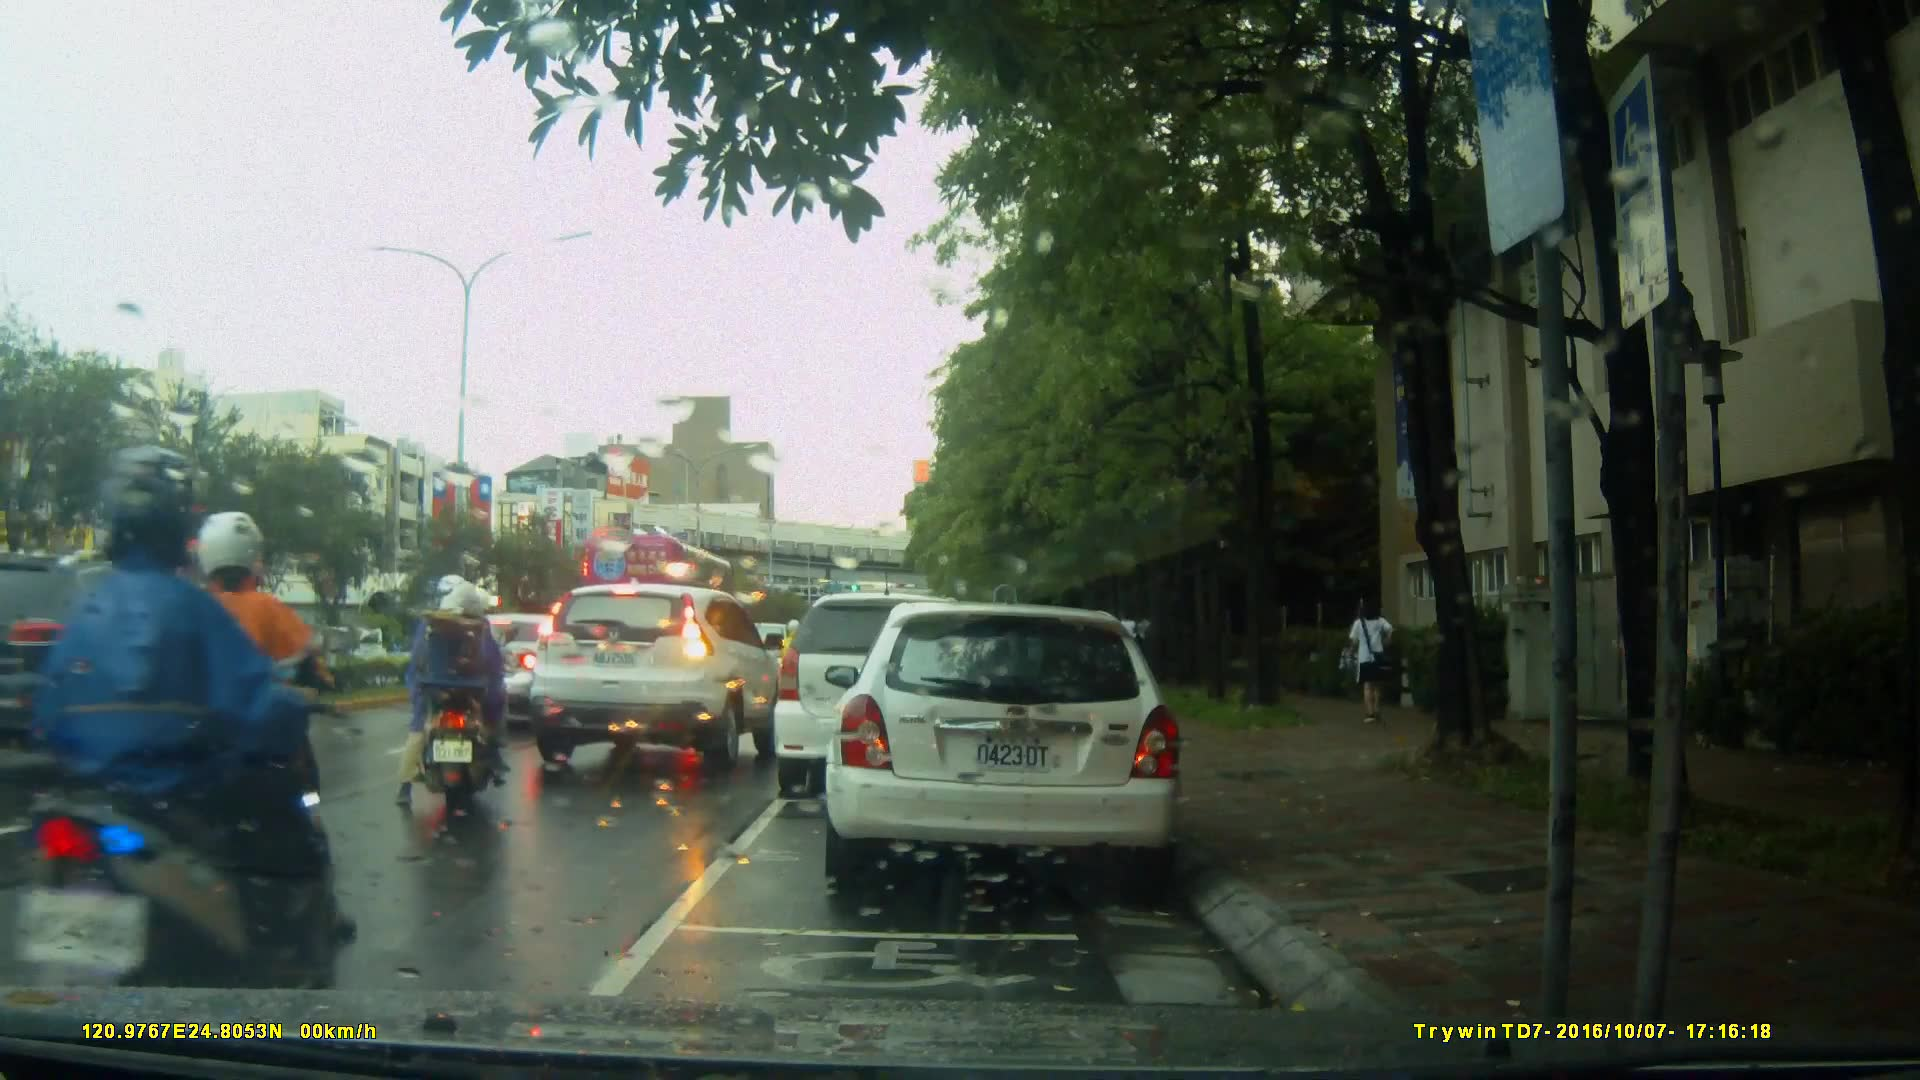pedestrian: (1337, 587, 1401, 740), (1116, 603, 1144, 685)
rider: (11, 435, 348, 1034), (403, 585, 516, 817), (421, 590, 499, 777)
vehicle: (835, 594, 1194, 898), (1, 547, 276, 768), (516, 584, 796, 778), (776, 590, 1026, 784), (576, 531, 737, 634)
